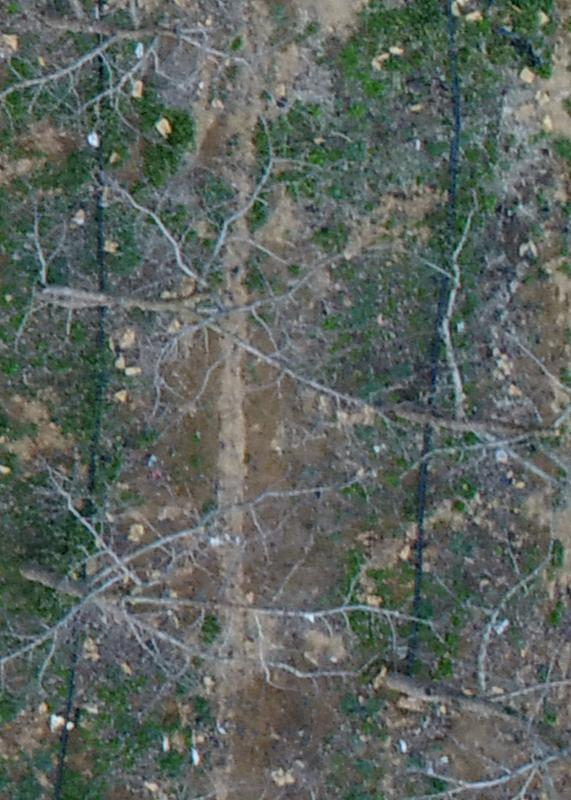apple: (10, 475, 369, 751), (10, 147, 329, 425)
